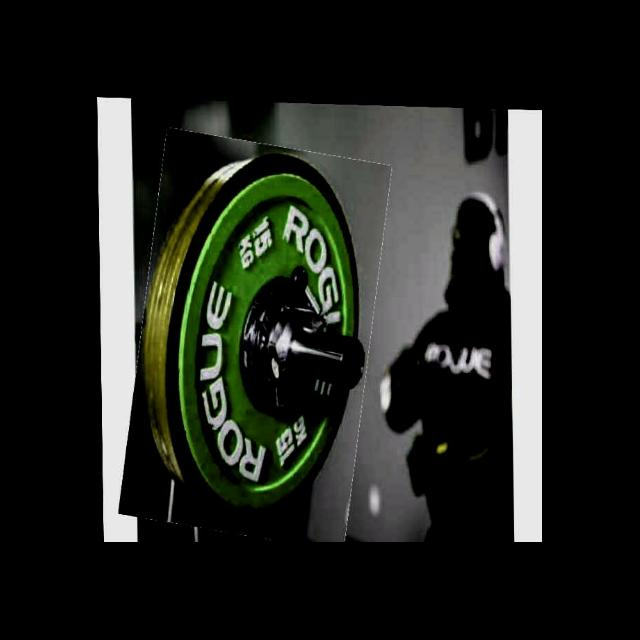barbell: (126, 133, 383, 542)
